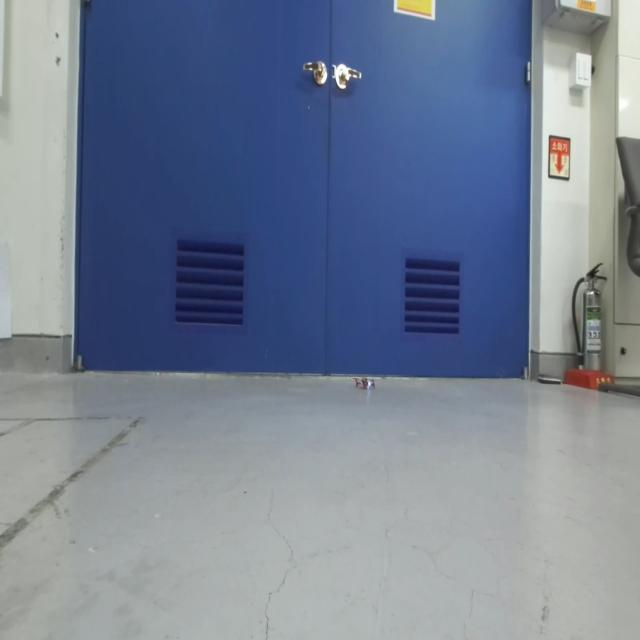crazyflie: (351, 374, 378, 396)
